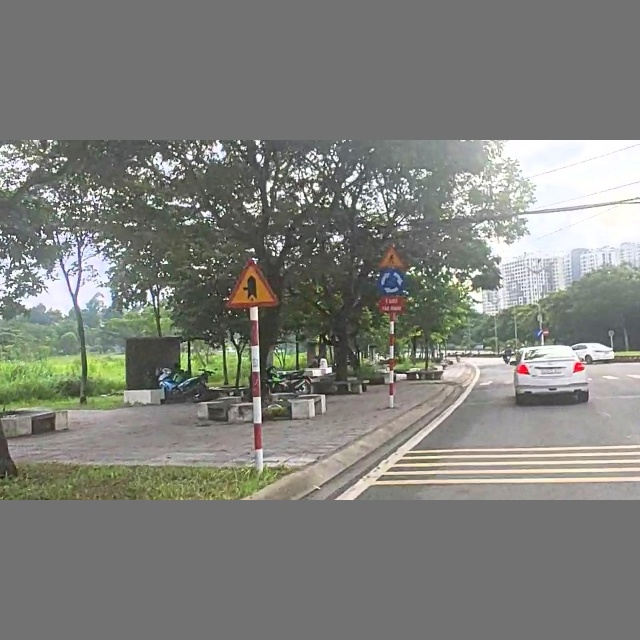P.102: (543, 329, 550, 336)
R.302a: (534, 329, 543, 338)
R.303: (377, 271, 404, 294)
W.207: (223, 257, 281, 310)
W.224: (377, 245, 403, 269)
